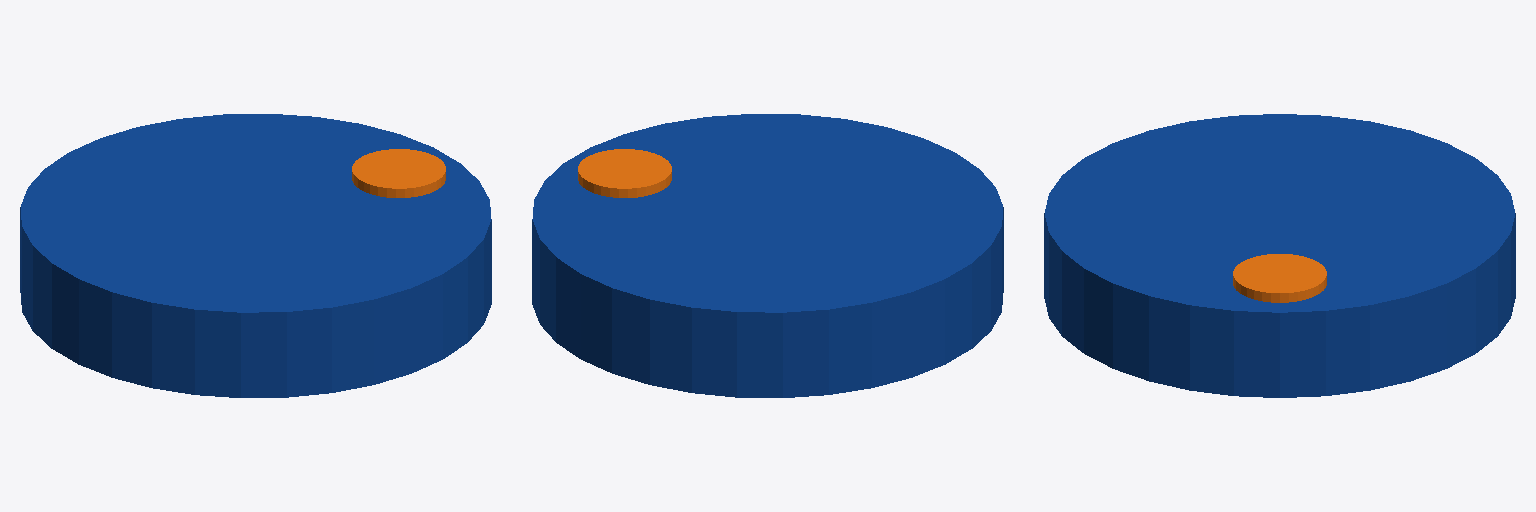
The robot description file, URDF, robot "wheel":
<?xml version="1.0" ?>
<robot name="wheel">

  <material name="industrial-blue">
    <color rgba="0.11372549019607843 0.34509803921568627 0.6549019607843137 1" />
  </material>

  <material name = "heritage-orange">
    <color rgba = "0.96078431 0.50980392 0.11764706 1" />
  </material>

  <link name="world"/>

  <link name="base_link">
    <visual>
      <origin rpy="0 0 0" xyz="0 0 0"/>
      <geometry>
  			<mesh filename="disc.stl" scale="0.1 0.1 0.1"/>
      </geometry>
      <material name="industrial-blue"/>
    </visual>
    <collision>
      <origin rpy="0 0 0" xyz="0 0 0"/>
      <geometry>
        <cylinder radius="0.1" length="0.1"/>
      </geometry>
    </collision>
    <inertial>
      <origin rpy="0 0 0" xyz="0 0 0"/>
      <mass value="0"/>
      <inertia ixx="0" ixy="0" ixz="0" iyy="0" iyz="0" izz="0"/>
    </inertial>
  </link>

  <link name="wheel_link">
    <visual>
      <origin rpy="0 0 0" xyz="0 0 0"/>
      <geometry>
  			<mesh filename="disc.stl" scale="0.5 0.5 0.2"/>
      </geometry>
      <material name = "industrial-blue"/>
    </visual>
    <collision>
      <origin rpy="0 0 0" xyz="0 0 0"/>
      <geometry>
        <cylinder radius="0.5" length="0.2"/>
      </geometry>
    </collision>
    <inertial>
      <origin rpy="0 0 0" xyz="0 0 0"/>
      <mass value="1.5707963267948966"/>
      <inertia ixx="0.10341075818066402" ixy="0" ixz="0" iyy="0.10341075818066402" iyz="0" izz="0.19634954084936207"/>
    </inertial>
  </link>

  <link name="fiducial_link">
    <visual>
      <origin rpy="0 0 0" xyz="0 0 0"/>
      <geometry>
  			<mesh filename="disc.stl" scale="0.1 0.1 0.04"/>
      </geometry>
      <material name = "heritage-orange"/>
    </visual>
    <inertial>
      <origin rpy="0 0 0" xyz="0 0 0"/>
      <mass value="0"/>
      <inertia ixx="0" ixy="0" ixz="0" iyy="0" iyz="0" izz="0"/>
    </inertial>
  </link>

  <joint name="world_to_base_fixed" type="fixed">
		<parent link = "world" />
		<child link = "base_link" />
    <origin xyz = "0 0 0.05" />
	</joint>

  <joint name="base_to_wheel" type="continuous">
		<parent link = "base_link" />
		<child link = "wheel_link" />
		<origin xyz = "0 0 0.15" />
		<axis xyz = "0 0 1" />
		<limit effort="1000" velocity="1000"/>
	</joint>

  <joint name="wheel_to_fiducial_fixed" type="fixed">
		<parent link = "wheel_link" />
		<child link = "fiducial_link" />
    <origin xyz = "0.35 0 0.102" />
	</joint>

</robot>

--- Facts derived from the render (not from the file) ---
Views: 3 orthographic renders of the robot side by side, from view 1: azimuth 30°, elevation 25°; view 2: azimuth 150°, elevation 25°; view 3: azimuth 270°, elevation 25°.
Model wheel with 4 links and 3 joints (1 continuous, 2 fixed), rooted at world, posed all joints at 0.
Visible links, largest first — view 1: wheel_link, fiducial_link; view 2: wheel_link, fiducial_link; view 3: wheel_link, fiducial_link.
Link boxes in pixels (x1=…): wheel_link: x1=20, y1=114, x2=491, y2=397; fiducial_link: x1=352, y1=149, x2=445, y2=197; wheel_link: x1=532, y1=114, x2=1003, y2=397; fiducial_link: x1=578, y1=149, x2=671, y2=197; wheel_link: x1=1044, y1=114, x2=1515, y2=397; fiducial_link: x1=1233, y1=254, x2=1326, y2=302.
Size in the robot's own frame: 1 by 1 by 0.322 metres.
Meshes: 1 distinct files referenced, 3 mesh visuals loaded (1 binary STL).